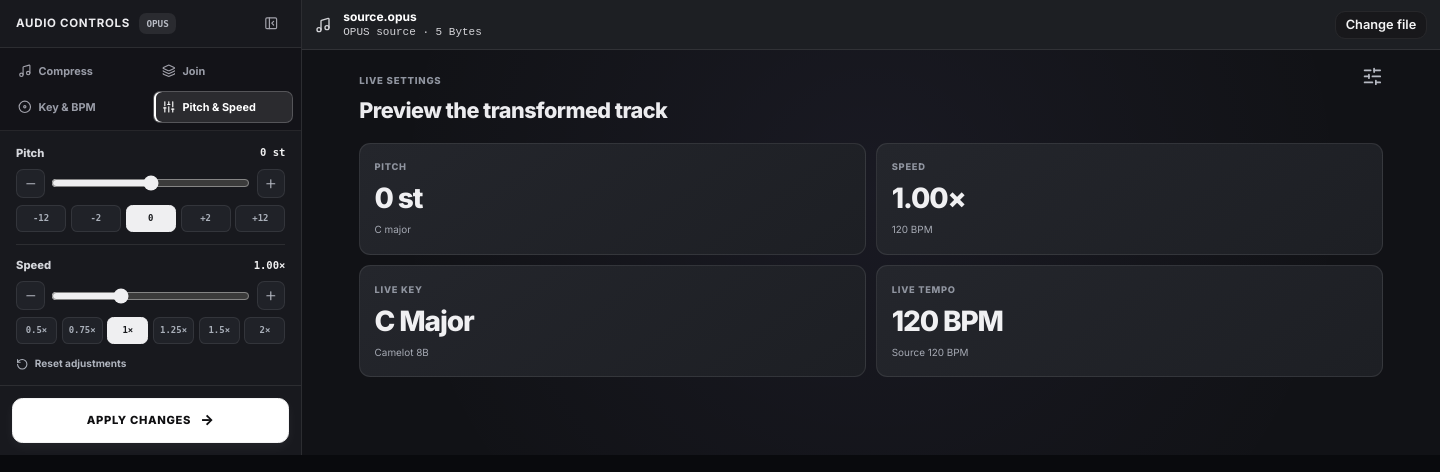
Test: Audio editor panels › updates and resets pitch and speed controls with accurate live Key, Camelot, and BPM preview
Expected: the text "C Major" is shown, [375,304,474,338]
Expected: the text "Camelot 8B" is shown, [375,346,429,358]
Step 1. Click the button named "Raise pitch" → click(271, 183), box [257,169,285,198]
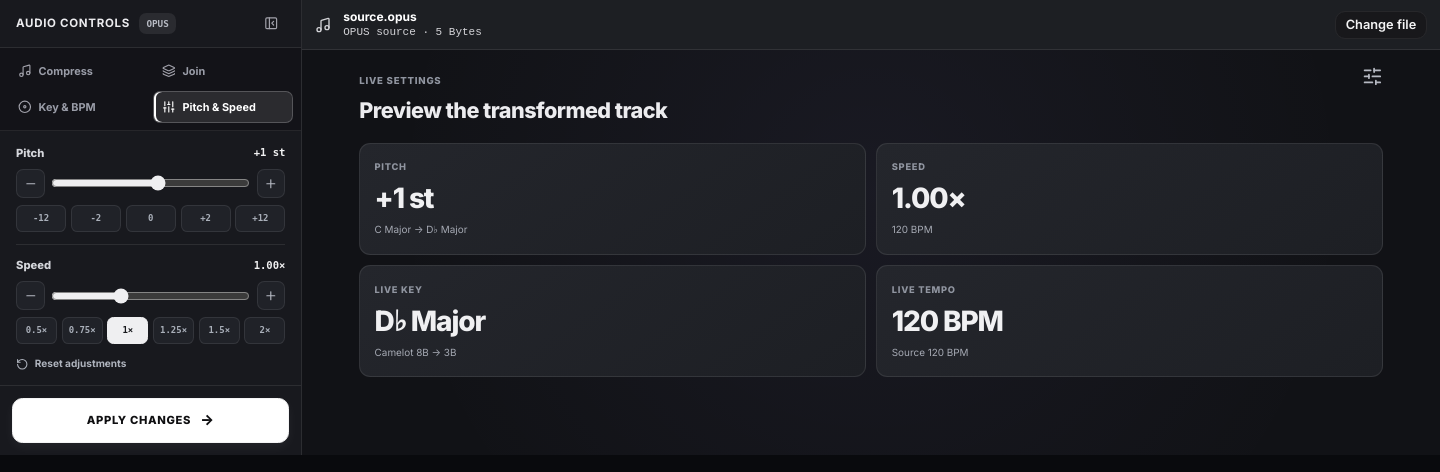
Step 2. Click the button named "Raise pitch" → click(271, 183), box [257,169,285,198]
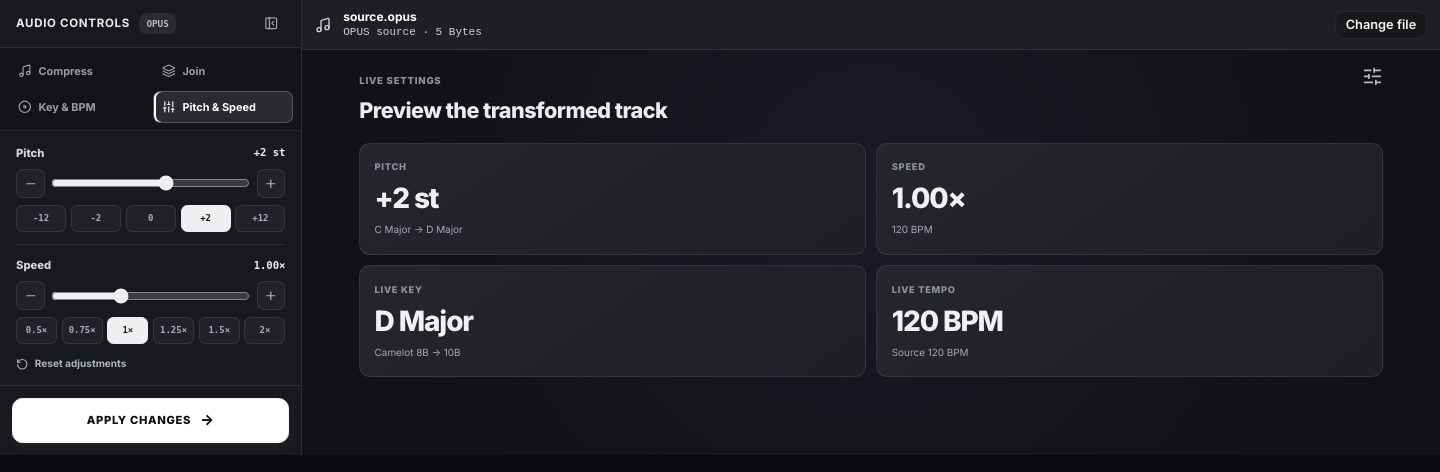
Expected: the text "+2 st" below "Audio controls" is shown, [254,146,285,158]
Expected: the text "C Major → D Major" is shown, [375,224,463,236]
Expected: the text "Camelot 8B → 10B" is shown, [375,346,461,358]
Step 3. Click the button "1.25×" → click(174, 331), box [153,317,194,344]
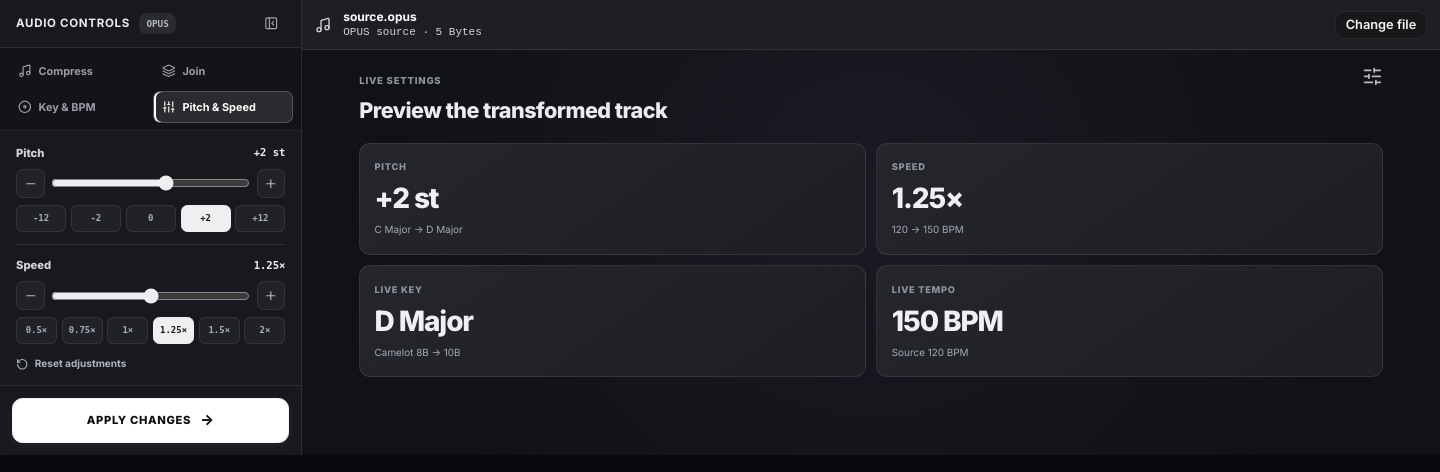
Expected: the text "1.25×" below "Audio controls" is shown, [254,259,285,271]
Expected: the text "120 → 150 BPM" is shown, [892,224,964,236]
Expected: the text "150 BPM" is shown, [892,304,1003,338]
Step 4. Click the button "Reset adjustments" → click(71, 364), box [16,356,126,371]
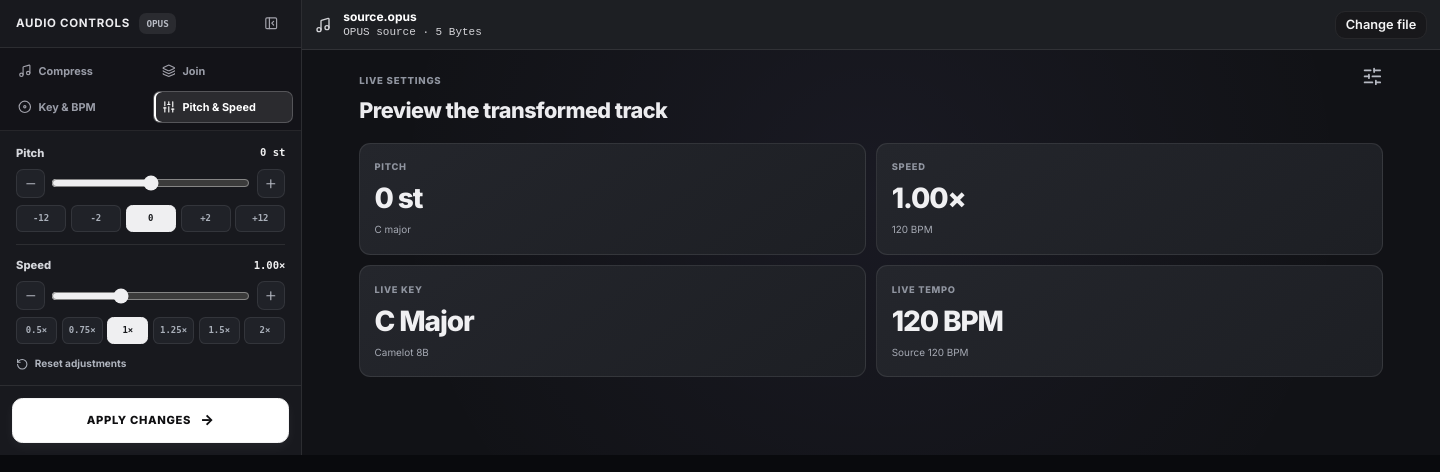
Expected: the text "0 st" below "Audio controls" is shown, [260,146,285,158]
Expected: the text "1.00×" below "Audio controls" is shown, [254,259,285,271]
Expected: the 1st text "120 BPM" is shown, [892,224,933,236]
